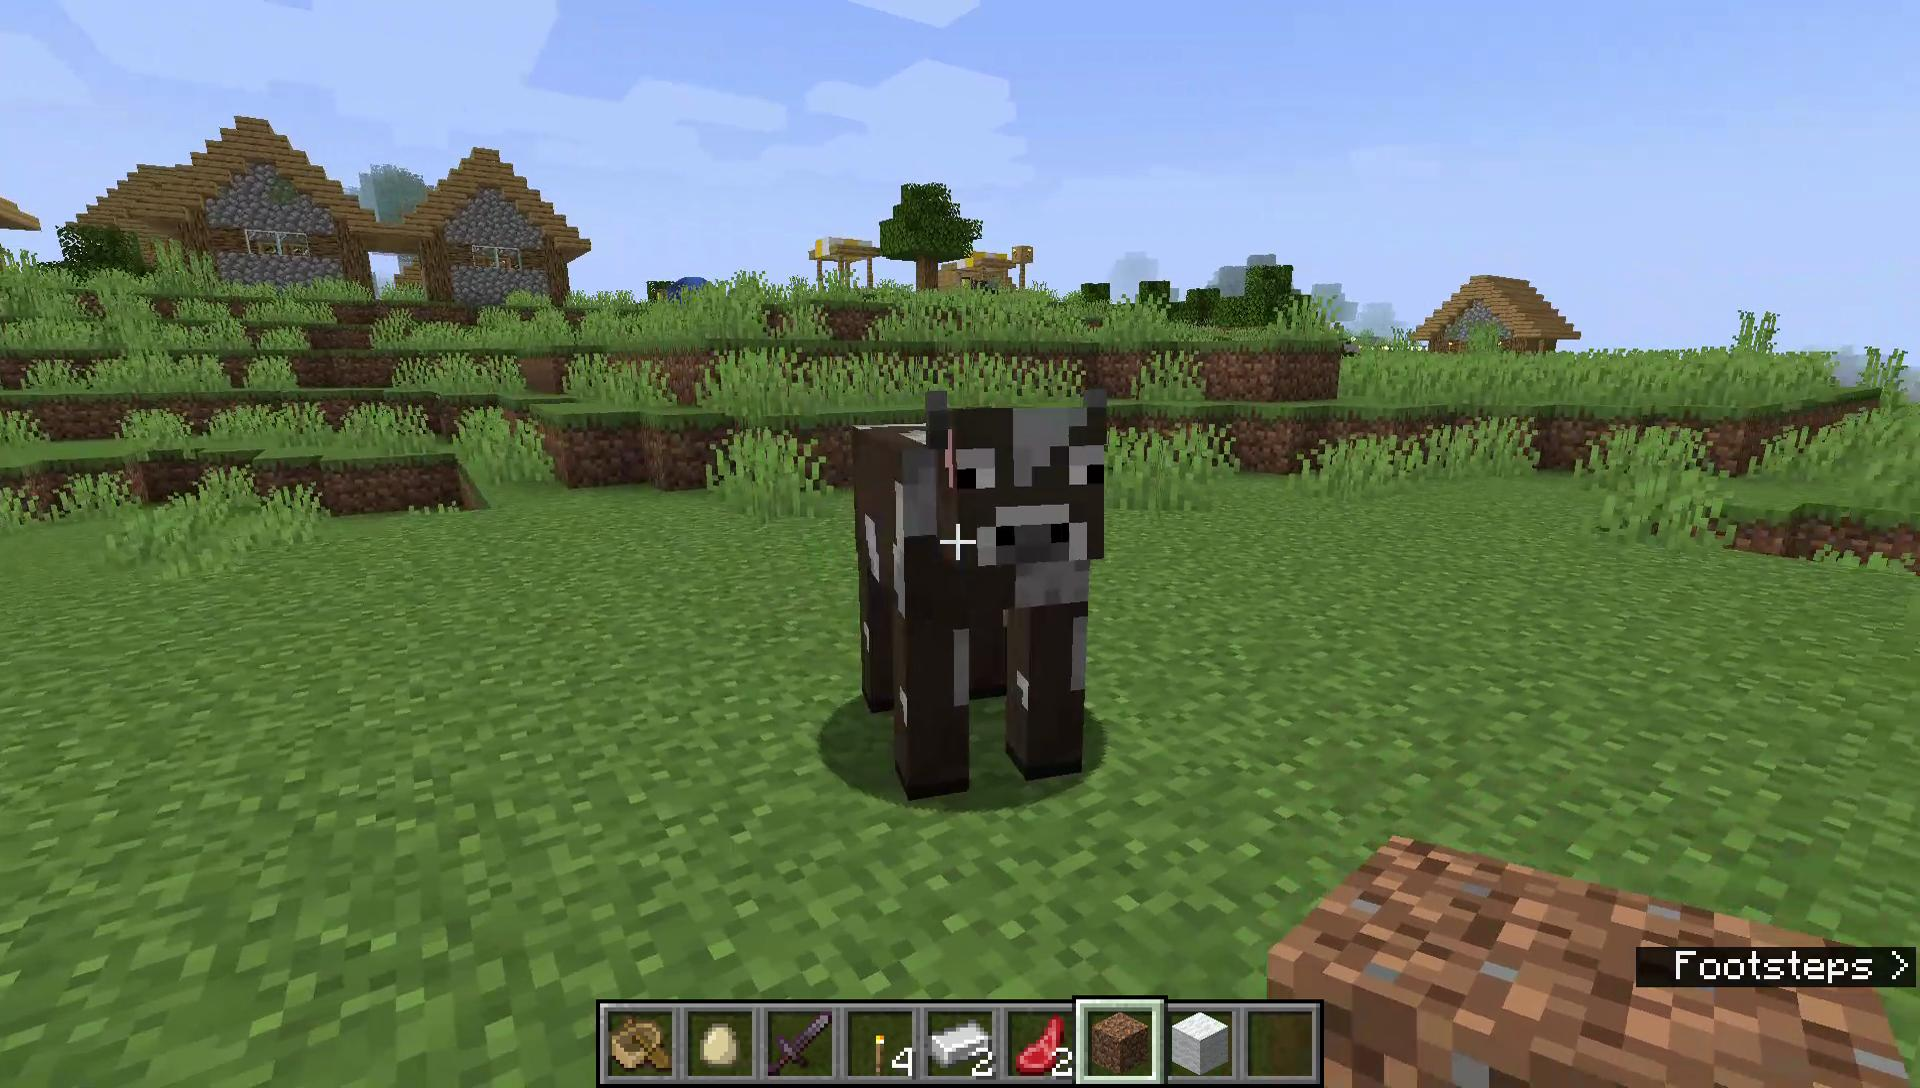cow: (837, 375, 1122, 804)
